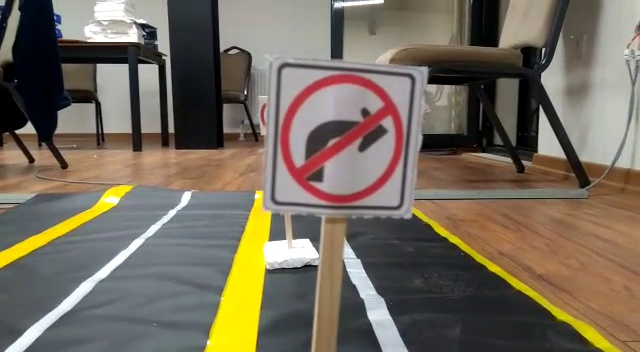saga_donulmez: (273, 62, 409, 209)
